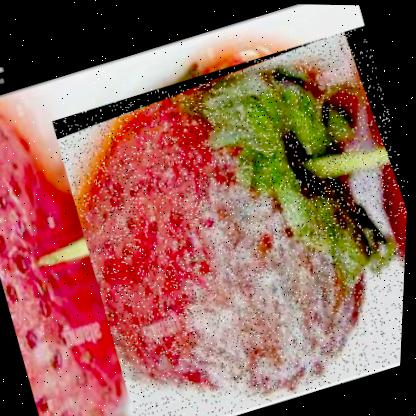strawberry_rotten: (40, 18, 415, 415)
